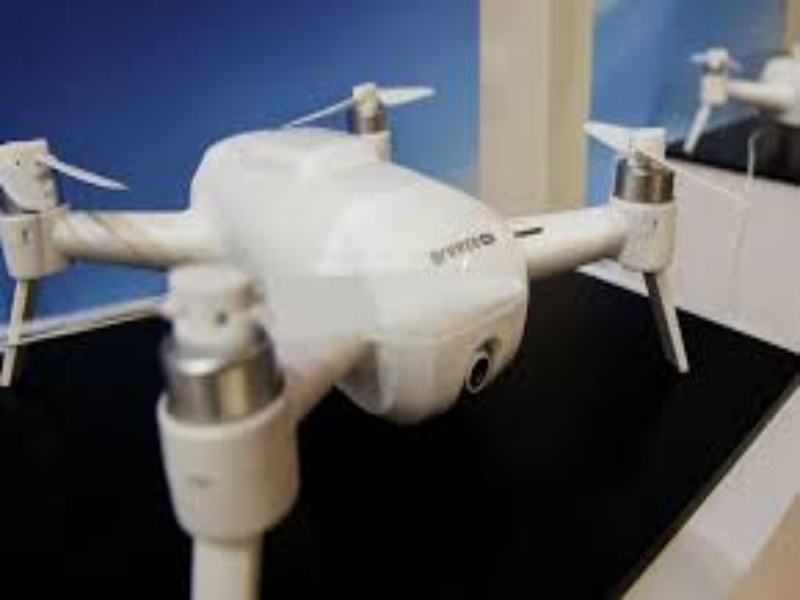drone: (2, 81, 720, 592)
